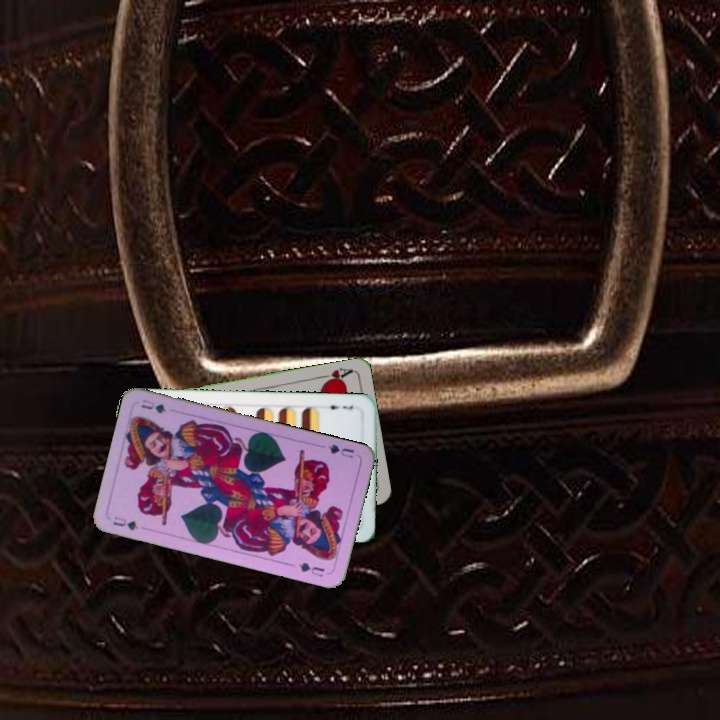E7: (321, 401, 355, 412)
GU: (324, 440, 357, 461), (109, 512, 141, 533)
HA: (315, 364, 355, 387)
